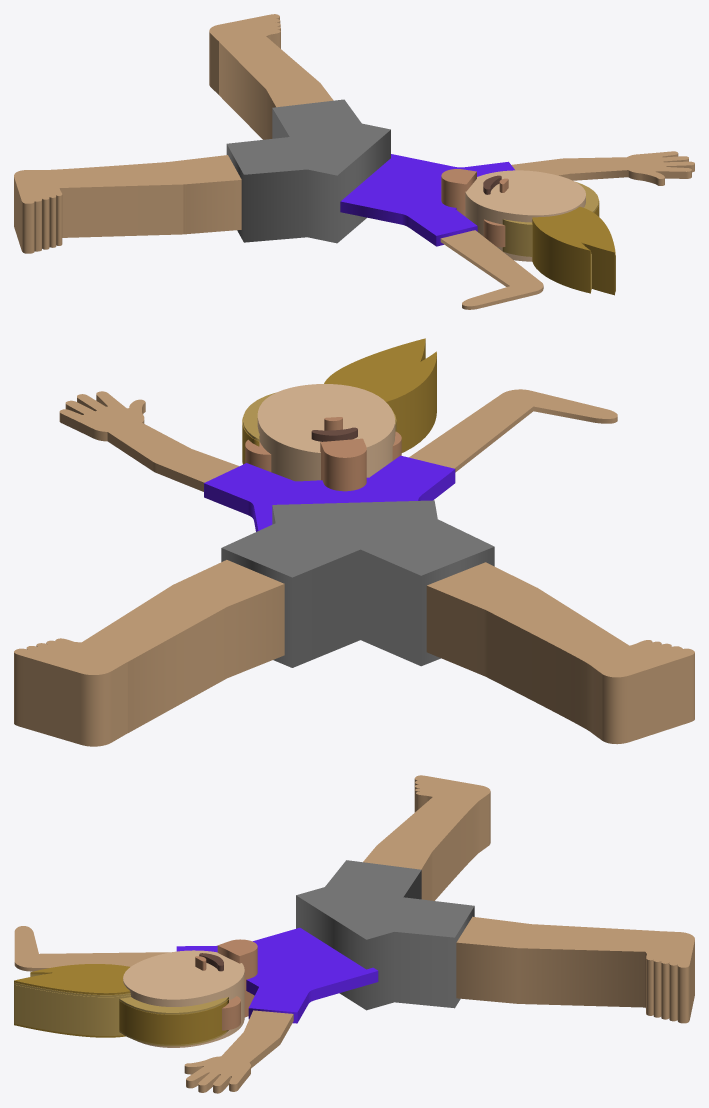
The model's file is emoji_u1f938_1f3fc_200d_2640.glb.
3 renders of one model, top to bottom at view 1: azimuth 30°, elevation 25°; view 2: azimuth 150°, elevation 25°; view 3: azimuth 270°, elevation 25°, orthographic. The views are drawn at different scales.
Parts seen in each view (by area): view 1: emoji_u1f938_1f3fc_200d_2640; view 2: emoji_u1f938_1f3fc_200d_2640; view 3: emoji_u1f938_1f3fc_200d_2640.
Part boxes in pixels (<box>): emoji_u1f938_1f3fc_200d_2640: <box>14,14,694,309</box>; emoji_u1f938_1f3fc_200d_2640: <box>14,338,694,746</box>; emoji_u1f938_1f3fc_200d_2640: <box>14,775,694,1093</box>.
Bounding box in the file's own units: 0.0333 × 0.0038 × 0.0332.
